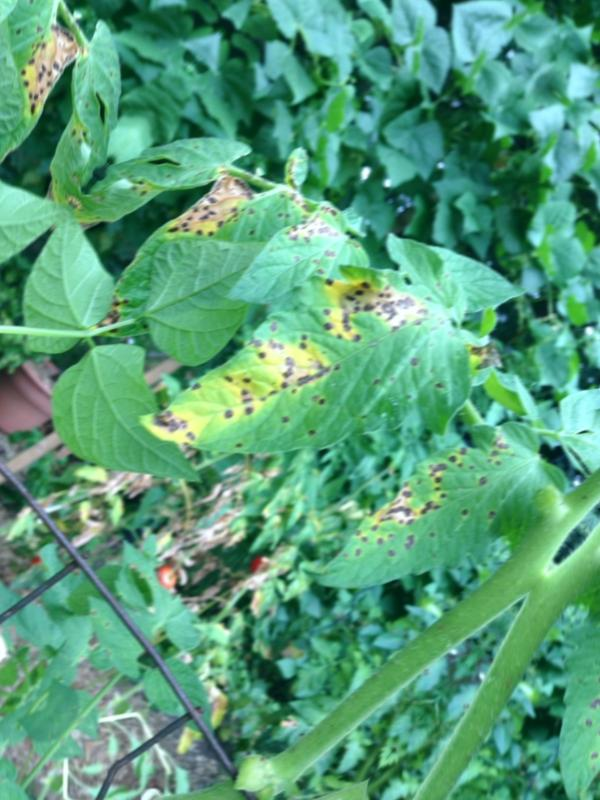Tomato Septoria leaf spot: (136, 209, 474, 555), (308, 376, 567, 647), (219, 196, 358, 344)
Tomato leaf: (0, 207, 146, 374)
